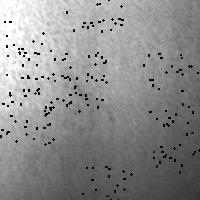pitted_surface: (1, 1, 200, 196), (47, 50, 105, 110), (143, 53, 197, 111), (0, 88, 52, 143), (153, 111, 200, 171), (0, 21, 42, 78), (62, 0, 121, 30), (80, 166, 130, 200)
